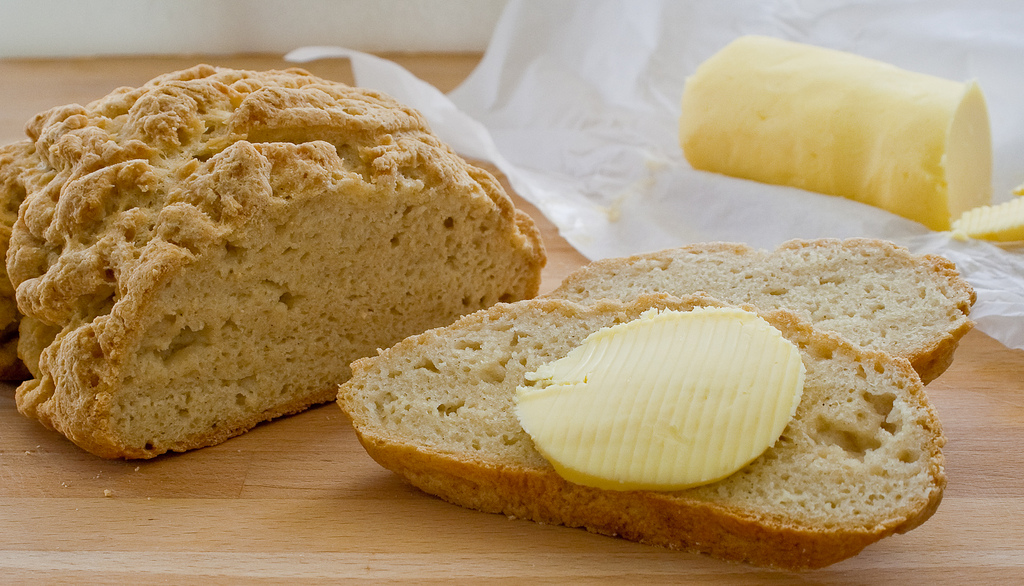slice of bread: (337, 203, 971, 563)
